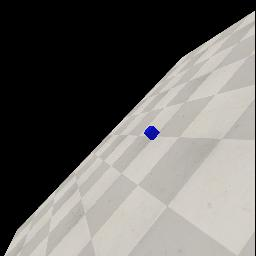box: (144, 126, 160, 140)
